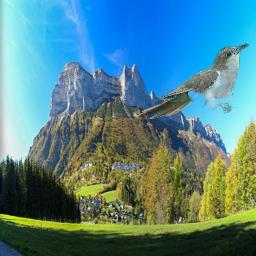Cuckoo: (136, 43, 249, 119)
